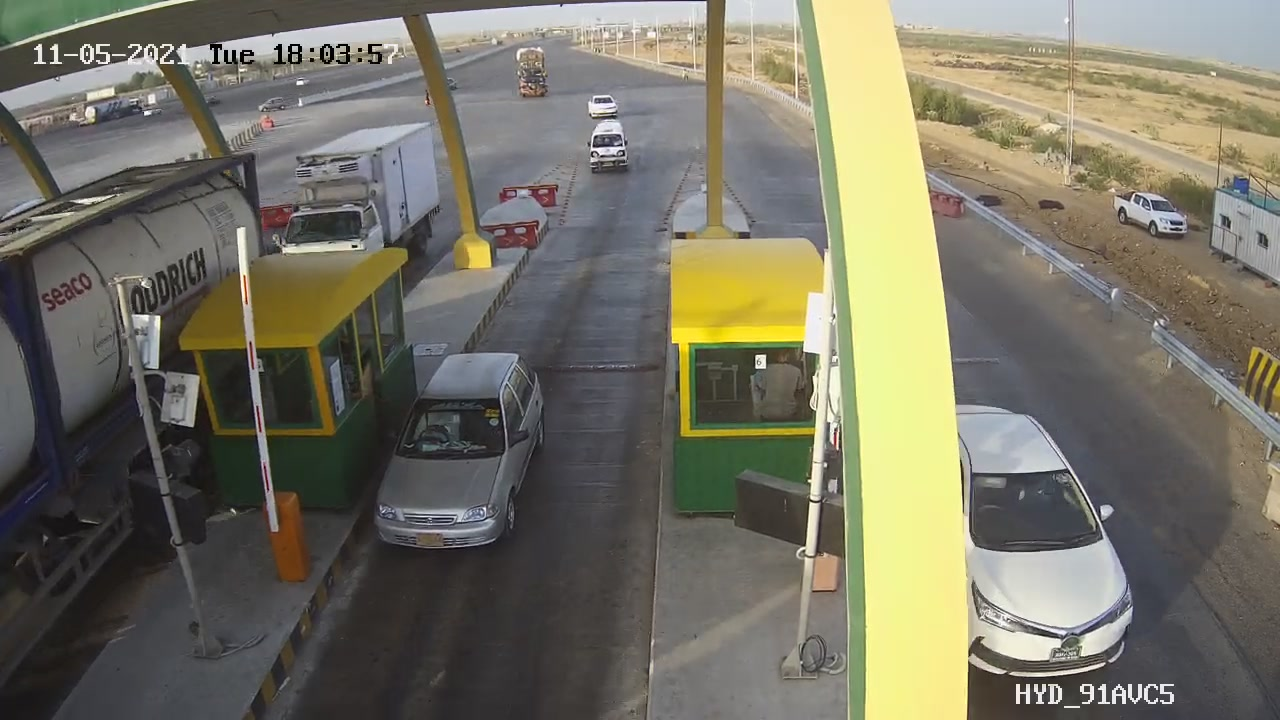F1: (359, 339, 563, 572)
